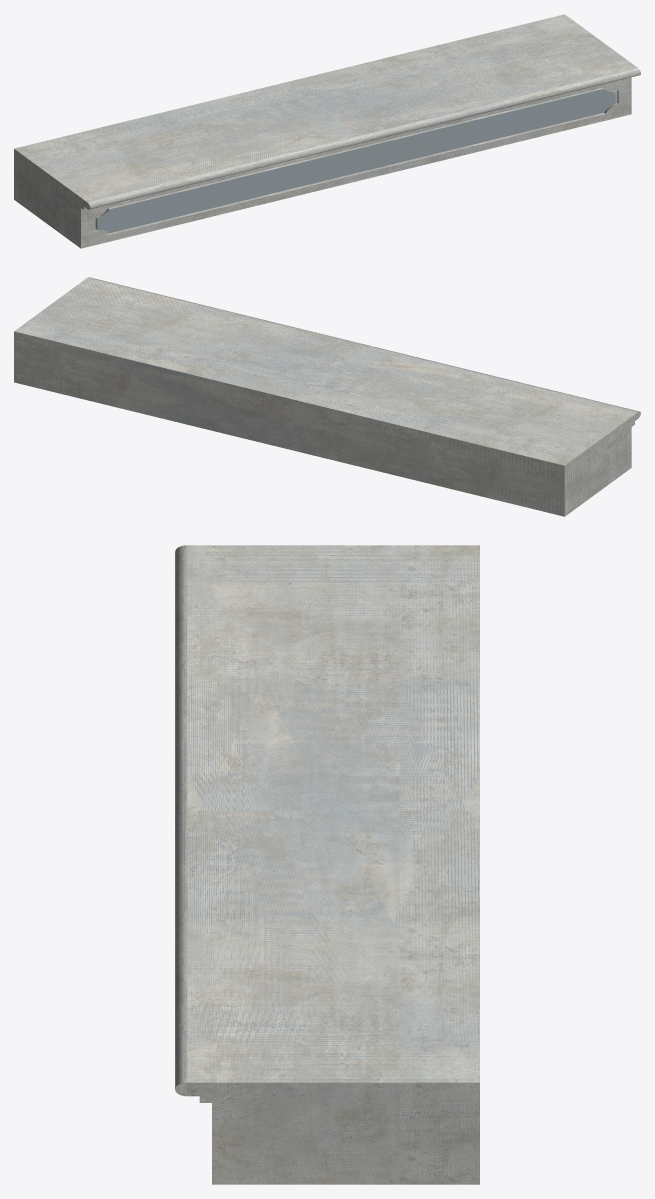
The model's file is long_brick.fbx.
The picture shows the model from 3 angles, top to bottom: view 1: azimuth 30°, elevation 25°; view 2: azimuth 150°, elevation 25°; view 3: azimuth 270°, elevation 25°; orthographic projection. The views are drawn at different scales.
Parts seen in each view (by area): view 1: Component_39_1; view 2: Component_39_1; view 3: Component_39_1.
Boxes of the visible parts, left/top/right/bottom form: Component_39_1: left=14, top=14, right=640, bottom=248; Component_39_1: left=14, top=277, right=640, bottom=516; Component_39_1: left=175, top=545, right=479, bottom=1184.
Size of the model in its own units: 1.03 by 0.0915 by 0.2478.
